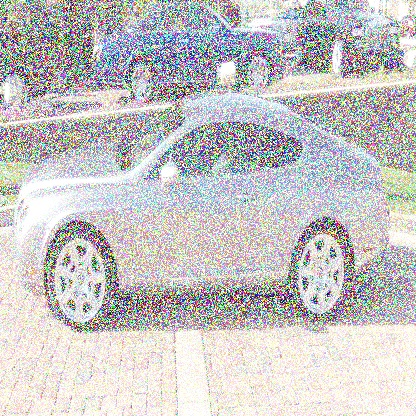Vehicle: (14, 95, 392, 333)
